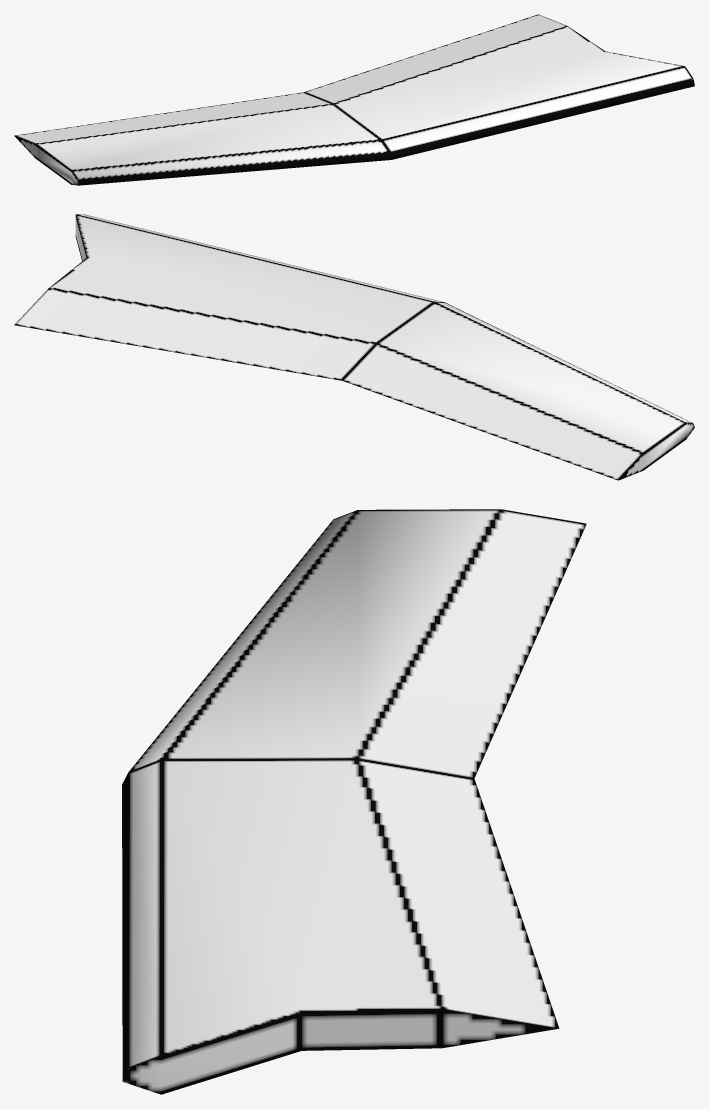
File: flügelkl.obj
3 renders of one model, top to bottom at view 1: azimuth 30°, elevation 25°; view 2: azimuth 150°, elevation 25°; view 3: azimuth 270°, elevation 25°, orthographic. The views are drawn at different scales.
Visible parts, largest first — view 1: cube1_sep130; view 2: cube1_sep130; view 3: cube1_sep130.
Boxes of the visible parts, x1=… form: cube1_sep130: x1=14, y1=14, x2=694, y2=185; cube1_sep130: x1=14, y1=214, x2=694, y2=480; cube1_sep130: x1=122, y1=509, x2=586, y2=1094.
Size of the model in its own units: 13.86 by 0.4626 by 4.94.
